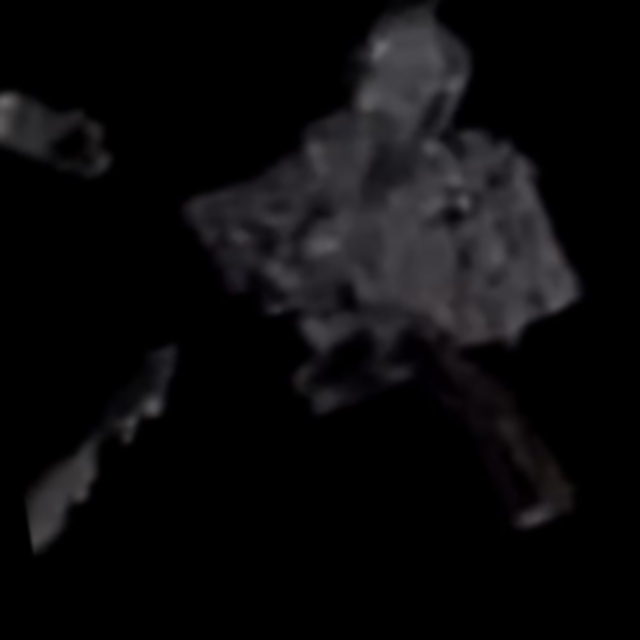large_debris: (163, 0, 640, 608), (4, 322, 225, 601), (0, 62, 134, 243)
